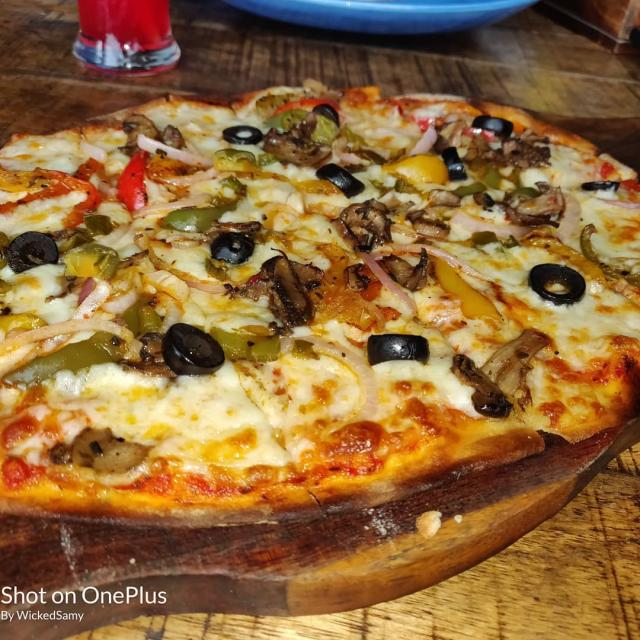black_olives: (158, 320, 236, 381), (526, 258, 586, 310), (363, 326, 440, 364), (5, 227, 61, 275), (318, 157, 363, 200), (215, 230, 262, 267), (477, 109, 521, 141), (440, 140, 472, 182), (226, 123, 263, 149), (316, 102, 343, 129)
mushrooms: (457, 324, 540, 410), (247, 251, 321, 335), (119, 103, 190, 152), (266, 121, 334, 170), (498, 183, 542, 236), (381, 250, 440, 289), (336, 200, 382, 243)
peppers: (0, 295, 144, 381), (0, 162, 110, 220), (428, 253, 509, 328), (548, 218, 639, 284), (204, 322, 310, 364), (68, 235, 122, 279), (114, 147, 151, 211), (381, 149, 443, 182), (161, 198, 235, 221), (464, 169, 512, 200), (343, 259, 375, 292)
pizza: (0, 87, 640, 511)
